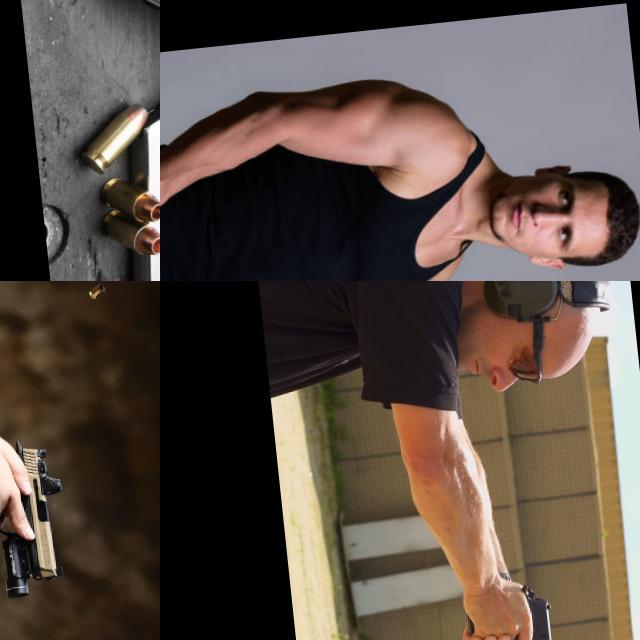handgun: (12, 0, 160, 281), (0, 435, 74, 601), (499, 578, 565, 640)
